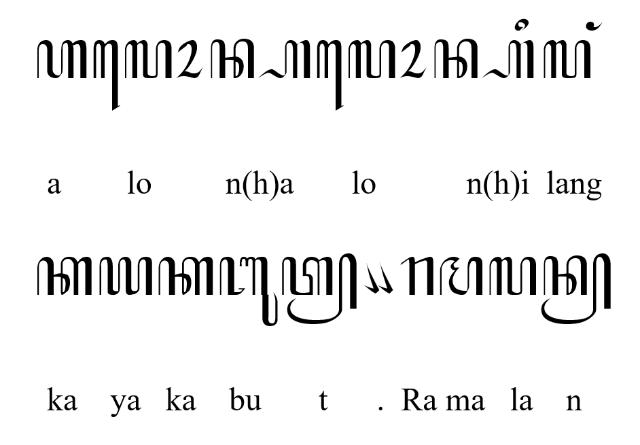-n: (541, 253, 611, 325)
-t: (282, 252, 358, 324)
_h: (482, 39, 536, 79)
bu: (220, 256, 278, 326)
e1: (316, 38, 344, 111), (94, 38, 120, 111)
h: (36, 40, 88, 79), (258, 40, 310, 79)
i: (515, 18, 529, 30)
k: (158, 256, 214, 296), (37, 257, 93, 296)
kom: (363, 262, 379, 294), (378, 262, 392, 294)
l: (348, 39, 396, 79), (489, 256, 537, 296), (124, 40, 172, 79), (543, 40, 591, 79)
m: (439, 256, 483, 296)
n: (210, 38, 256, 78), (434, 38, 478, 78)
ng: (586, 22, 602, 30)
o: (399, 40, 426, 80), (176, 40, 204, 78)
r: (401, 256, 434, 294)
y: (99, 257, 153, 296)
